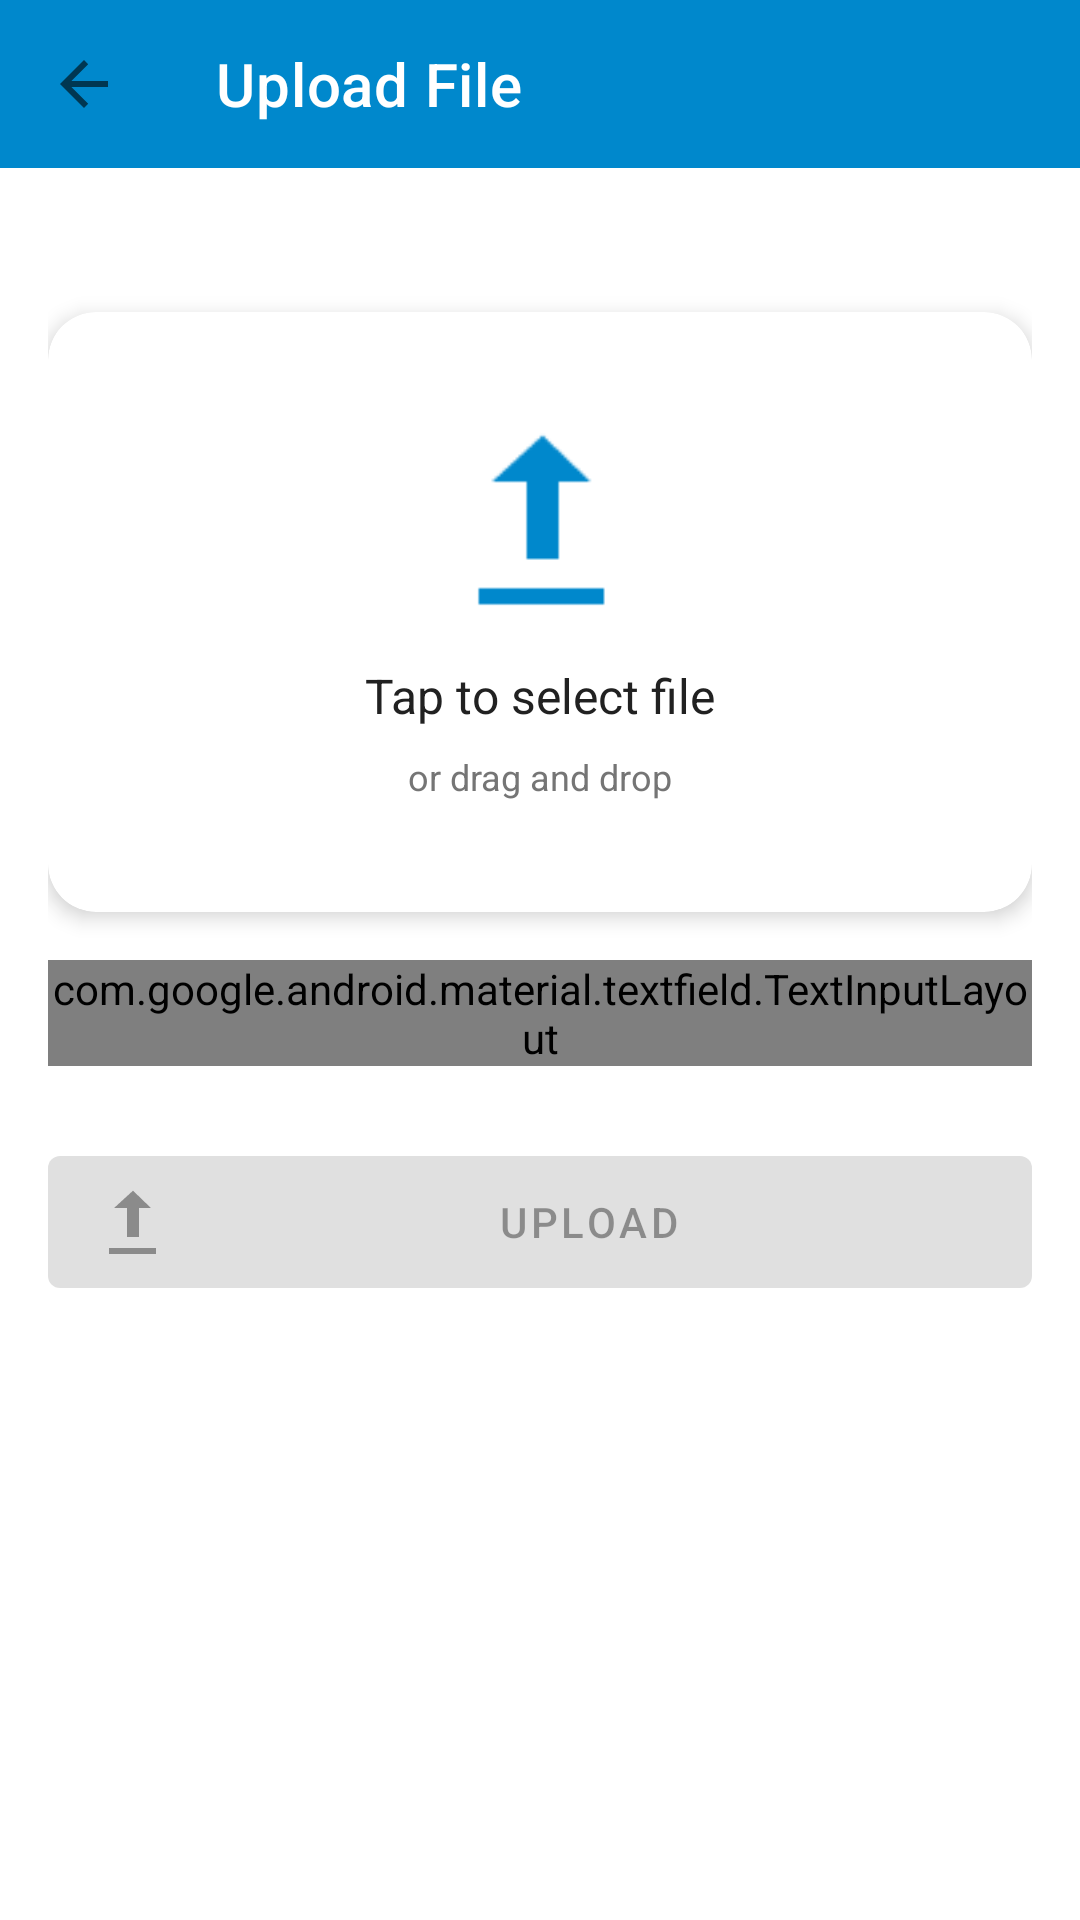

Locate icon controls on the screen. Image size 1080 × 1920, boxes as (x1, y1, x2, y2).
upload: (478, 435, 605, 605)
